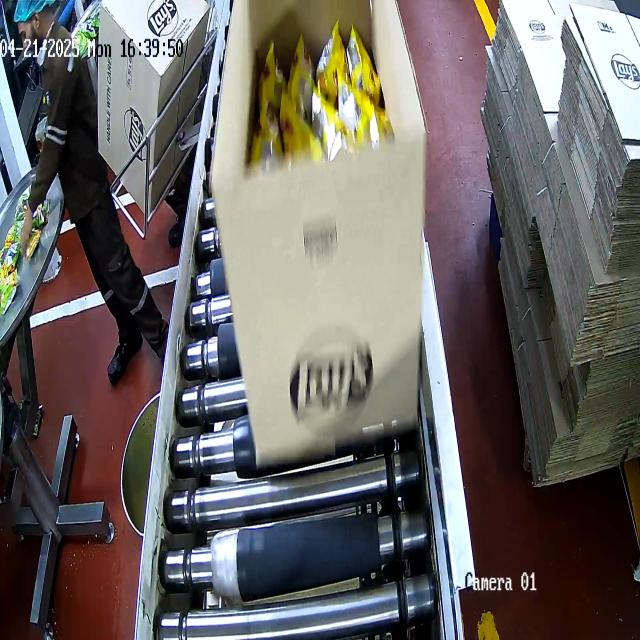SALTED: (248, 30, 387, 170)
